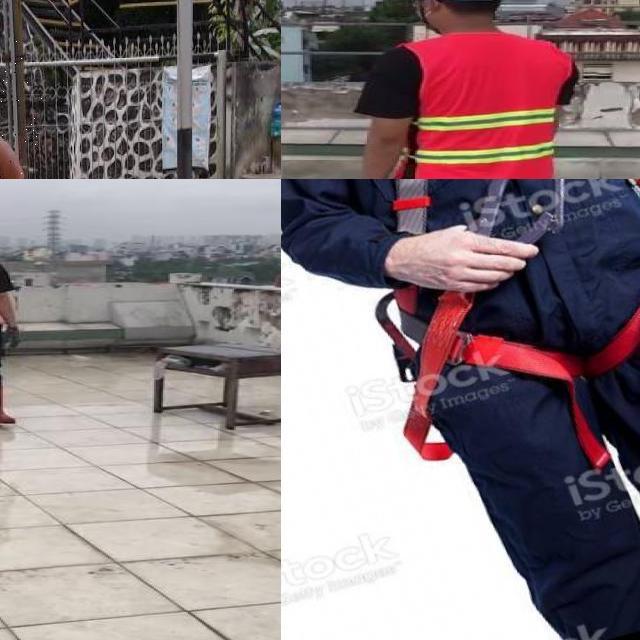Harness: (405, 291, 640, 470)
boots: (0, 382, 18, 425)
hand_glove: (1, 325, 19, 349)
person: (344, 0, 586, 179), (0, 219, 34, 436)
vest: (402, 34, 571, 179)
